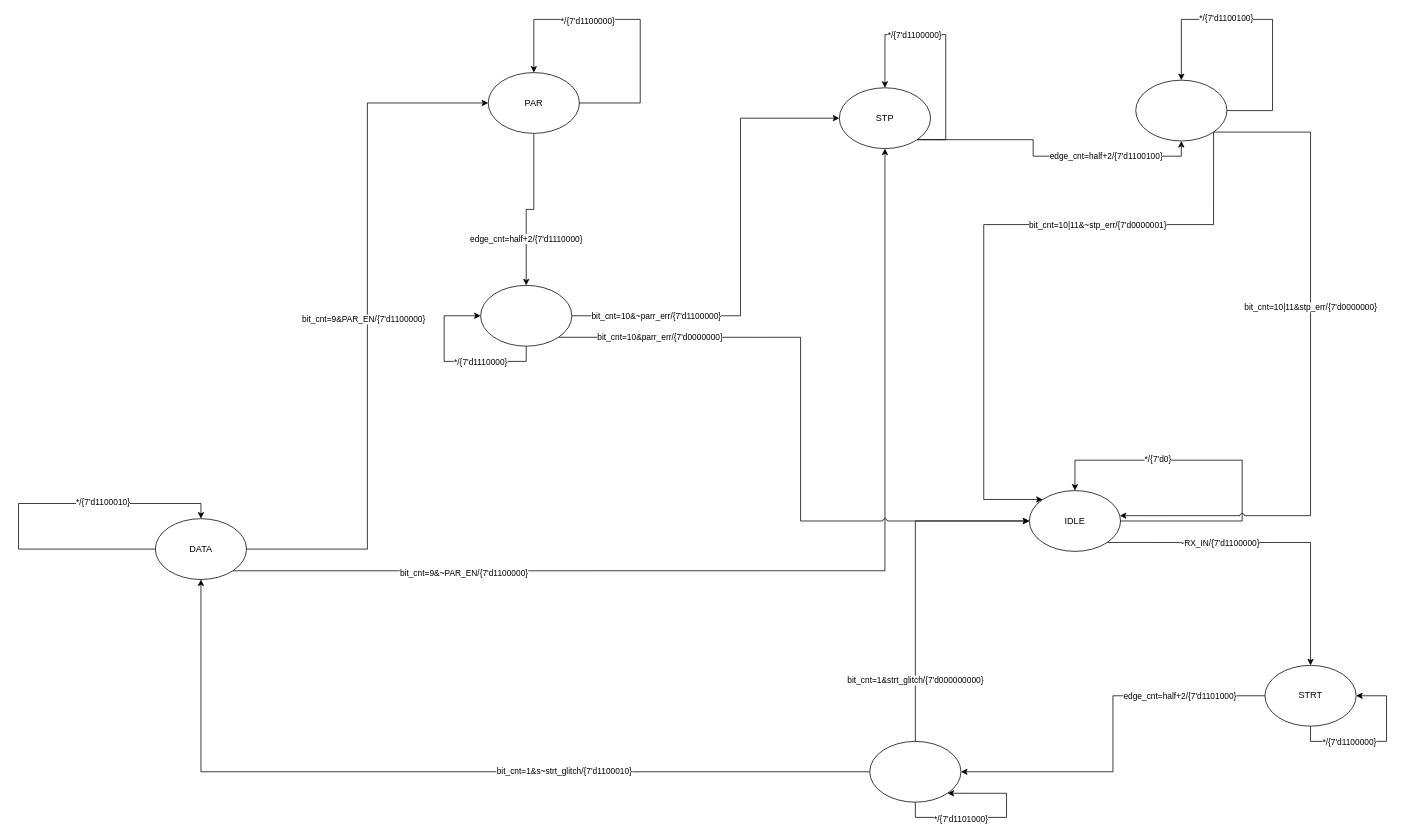
This 1406x837 diagram has some shape labels left out. The centre of each missing label's shape, as x and y in pixels:
"PAR_CHK" belongs at point 526,315.
"STP_CHK" belongs at point 1181,110.
"STRT_CHK" belongs at point 915,771.
